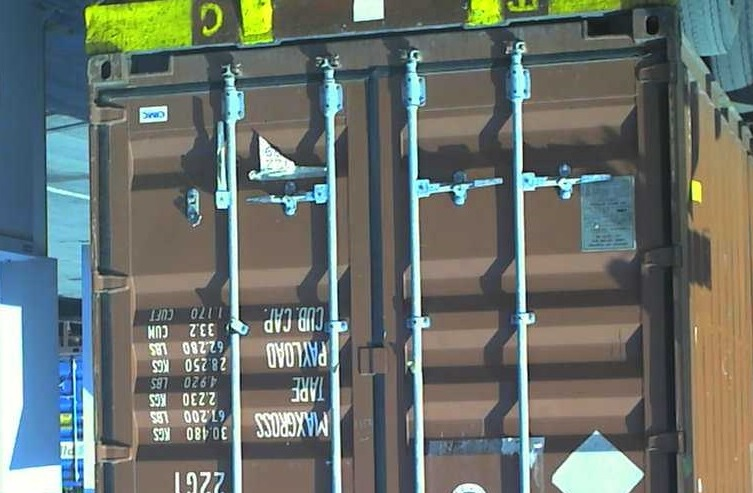container_door: (93, 44, 695, 491)
